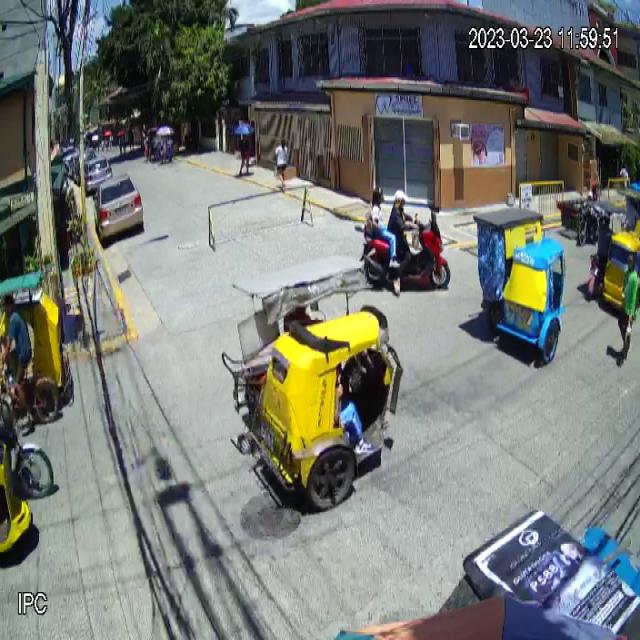Car: (93, 172, 145, 241)
Motorcycle: (361, 211, 450, 295)
Tricycle: (221, 254, 404, 512), (473, 208, 568, 363), (585, 197, 640, 308)
